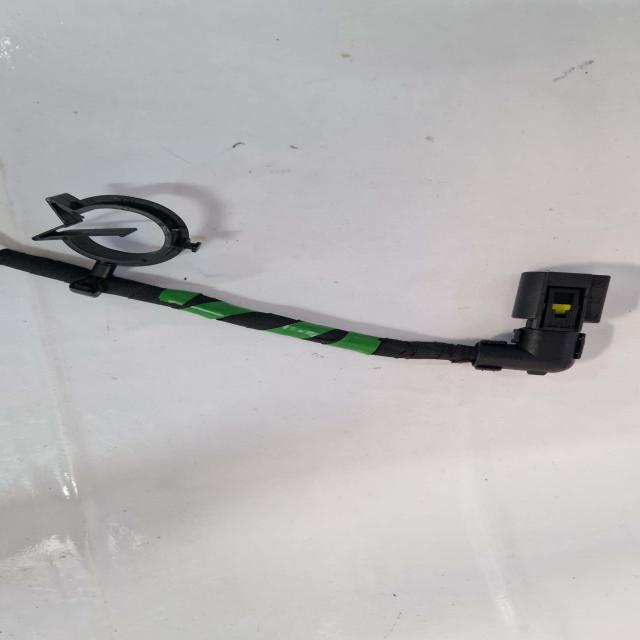AJ20_D6_Cable: (0, 249, 475, 362)
Clip: (33, 194, 200, 296)
Connector: (473, 271, 611, 375)
